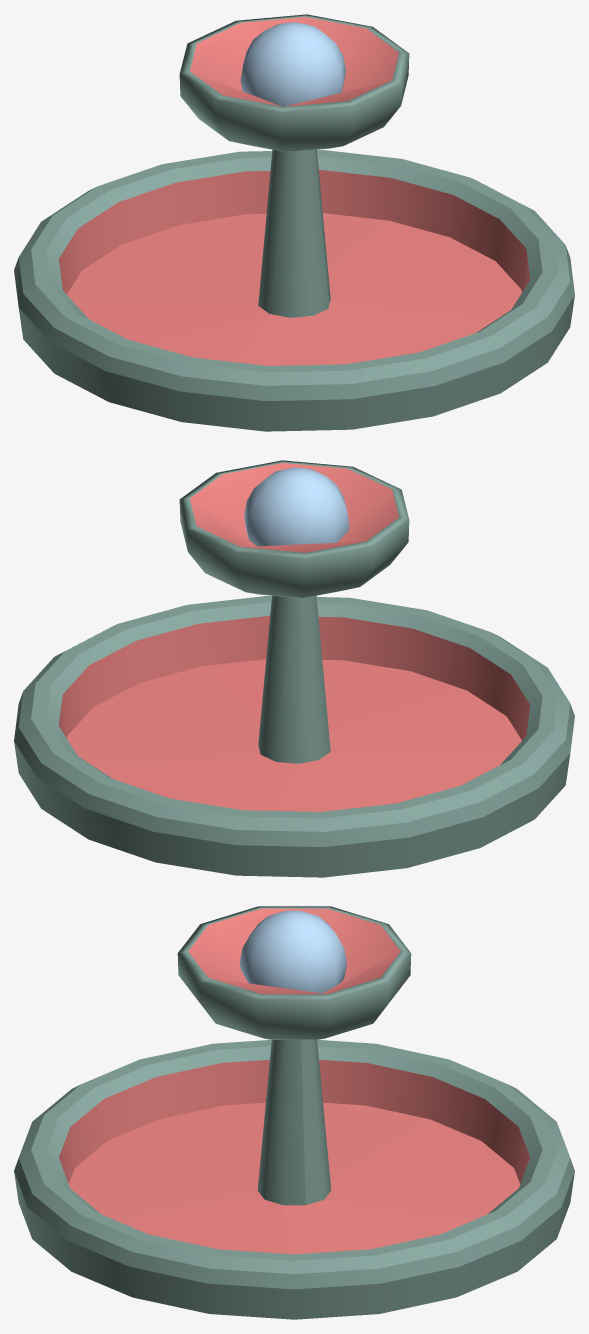
Rendered from SM_Fountain_5.fbx.
3 renders of one model, top to bottom at view 1: azimuth 30°, elevation 25°; view 2: azimuth 150°, elevation 25°; view 3: azimuth 270°, elevation 25°, orthographic.
Visible parts, largest first — view 1: SM_Fountain_5; view 2: SM_Fountain_5; view 3: SM_Fountain_5.
Part boxes in pixels (<box>): SM_Fountain_5: <box>14,14,574,431</box>; SM_Fountain_5: <box>14,460,574,877</box>; SM_Fountain_5: <box>14,906,574,1319</box>.
Bounding box in the file's own units: 465 × 263 × 465.
